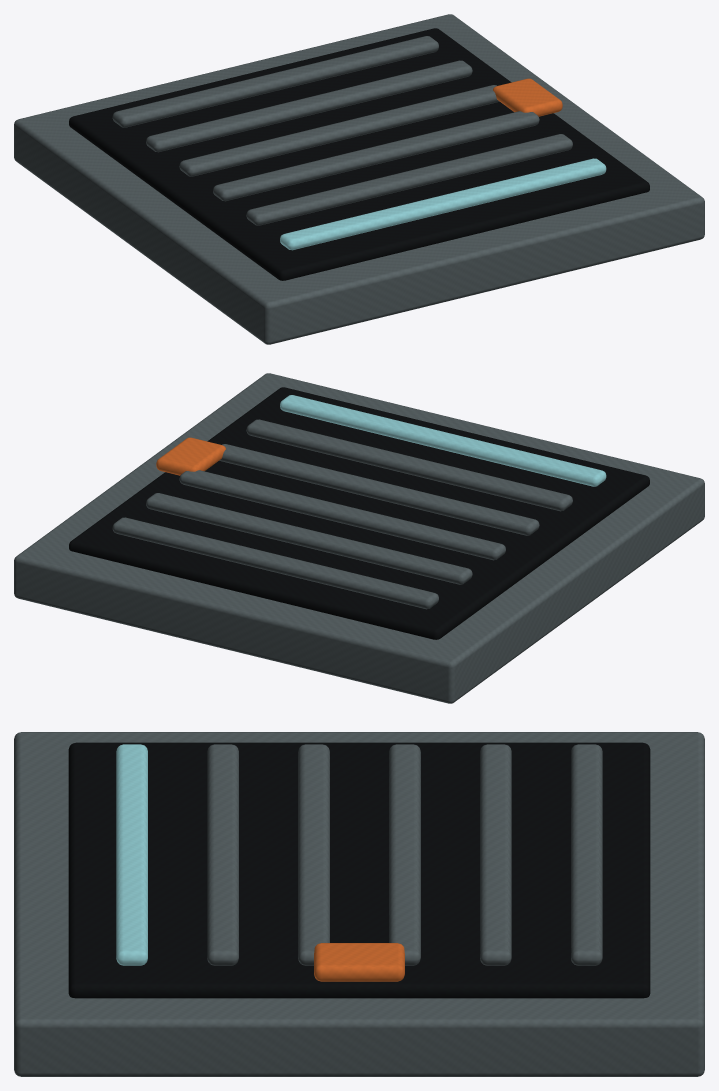
File: FloorDrain.glb
The picture shows the model from 3 angles, top to bottom: view 1: azimuth 30°, elevation 25°; view 2: azimuth 150°, elevation 25°; view 3: azimuth 270°, elevation 25°; orthographic projection. The views are drawn at different scales.
Parts seen in each view (by area): view 1: FloorDrain_Mesh; view 2: FloorDrain_Mesh; view 3: FloorDrain_Mesh.
Part boxes in pixels (x1,y1,x2,y2): FloorDrain_Mesh: (14,14,704,344); FloorDrain_Mesh: (14,373,704,703); FloorDrain_Mesh: (14,732,704,1076).
Bounding box in the file's own units: 0.76 × 0.11 × 0.76.
Materials: 4 (4 with a texture image).
